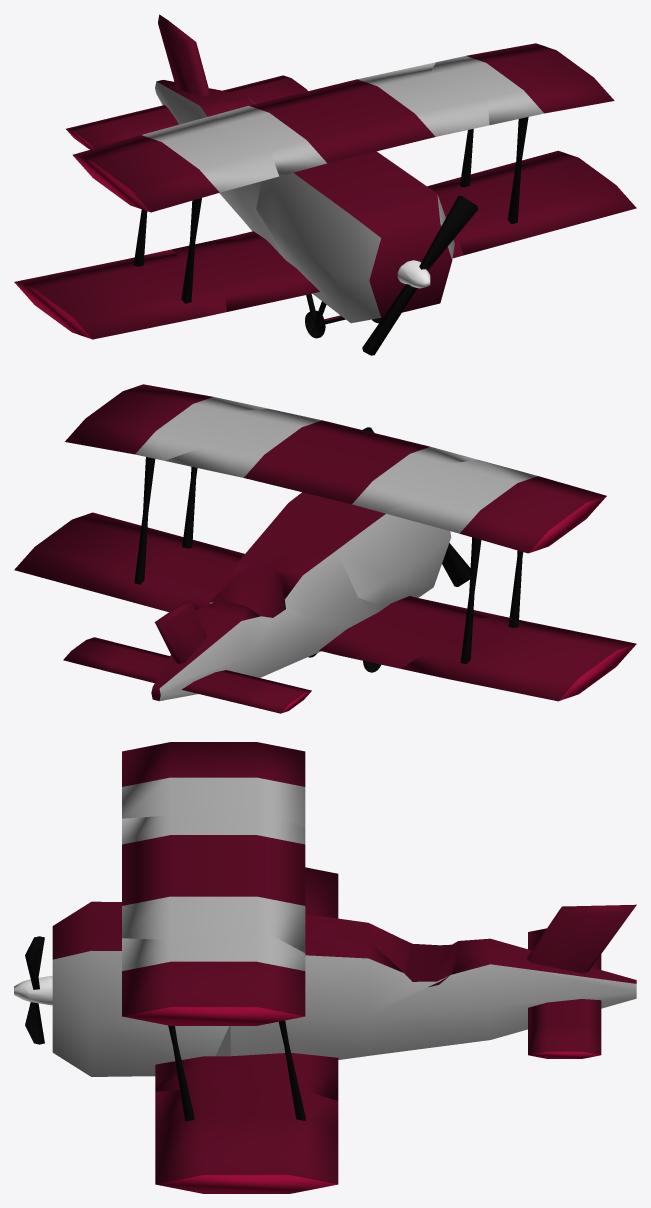
Rendered from BrokenPlanev2.fbx.
The picture shows the model from 3 angles, top to bottom: view 1: azimuth 30°, elevation 25°; view 2: azimuth 150°, elevation 25°; view 3: azimuth 270°, elevation 25°; orthographic projection. The views are drawn at different scales.
Parts seen in each view (by area): view 1: Cube.012, Cube.021, Cube.011, Cube.022, Cube.019, Cube.018, Cube, Cube.009, Cube.017, Cube.008, Cube.010, Cube.004 (+12 smaller); view 2: Cube.011, Cube.012, Cube.024, Cube.019, Cube.023, Cube.022, Cube, Cube.018, Cube.009, Cube.017, Cube.008, Cube.021 (+12 smaller); view 3: Cube.024, Cube.011, Cube.022, Cube.019, Cube.017, Cube.023, Cube.008, Cube.018, Cube.009, Cube, Cube.004, Cube.030 (+9 smaller).
Part boxes in pixels (box(x1,y1,x2,y2)): Cube.012: box(14, 249, 226, 339); Cube.021: box(293, 151, 452, 317); Cube.011: box(427, 150, 636, 255); Cube.022: box(256, 173, 454, 323); Cube.019: box(249, 79, 435, 163); Cube.018: box(73, 135, 219, 212); Cube: box(172, 231, 463, 311); Cube.009: box(142, 114, 279, 192); Cube.017: box(466, 43, 614, 113); Cube.008: box(357, 62, 489, 136); Cube.010: box(216, 105, 326, 176); Cube.004: box(429, 56, 543, 124); Cube.011: box(14, 512, 244, 611); Cube.012: box(401, 616, 636, 701); Cube.024: box(159, 550, 380, 701); Cube.019: box(244, 420, 429, 504); Cube.023: box(151, 531, 336, 700); Cube.022: box(336, 513, 451, 609); Cube: box(189, 563, 501, 668); Cube.018: box(460, 476, 606, 553); Cube.009: box(383, 460, 537, 533); Cube.017: box(65, 384, 213, 454); Cube.008: box(165, 408, 321, 477); Cube.021: box(263, 492, 385, 550); Cube.024: box(230, 955, 636, 1059); Cube.011: box(155, 1085, 338, 1193); Cube.022: box(52, 950, 229, 1076); Cube.019: box(122, 835, 305, 905); Cube.017: box(122, 961, 305, 1025); Cube.023: box(305, 914, 636, 987); Cube.008: box(122, 896, 305, 952); Cube.018: box(122, 742, 305, 786); Cube.009: box(122, 777, 305, 827); Cube: box(155, 1053, 338, 1100); Cube.004: box(122, 927, 305, 970); Cube.030: box(526, 904, 636, 973).
Bounding box in the file's own units: 1002 × 374 × 854.
1 material, 1 textured.
